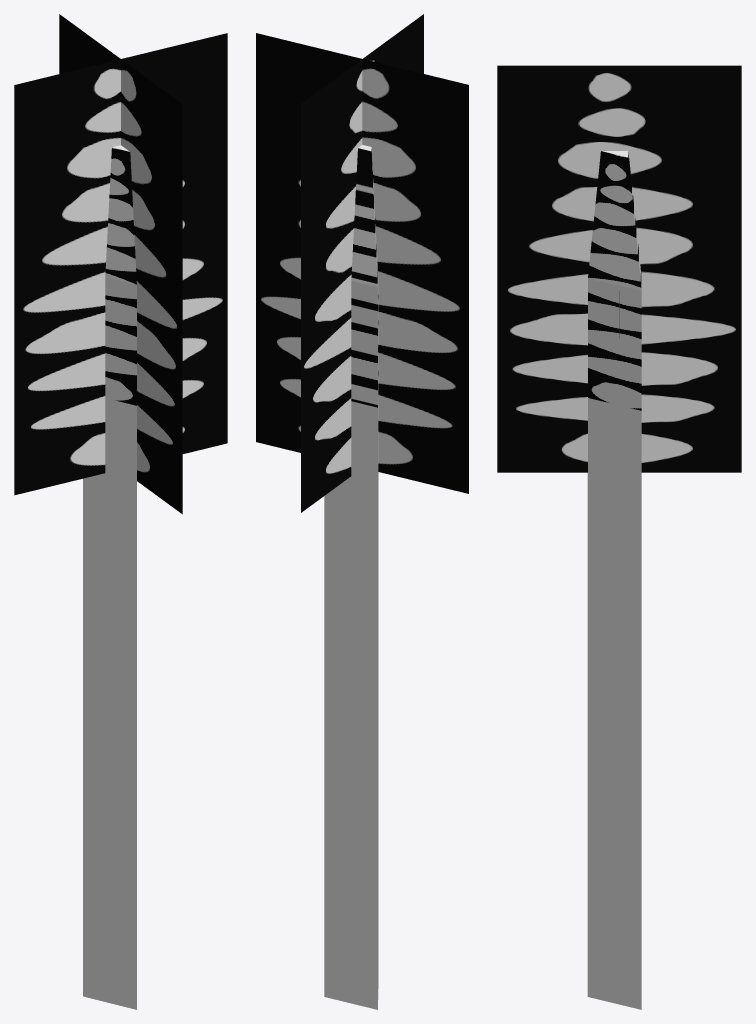
File: SM_HighGrass.fbx
3 renders of one model, left to right at view 1: azimuth 30°, elevation 25°; view 2: azimuth 150°, elevation 25°; view 3: azimuth 270°, elevation 25°, orthographic.
Visible parts, largest first — view 1: Stem; view 2: Stem; view 3: Stem.
Part boxes in pixels (x1,y1,x2,y2): Stem: (14,14,227,1009); Stem: (256,14,468,1009); Stem: (497,65,741,1009).
Bounding box in the file's own units: 1.66 × 7 × 1.66.
Materials: 1 (1 with a texture image).
